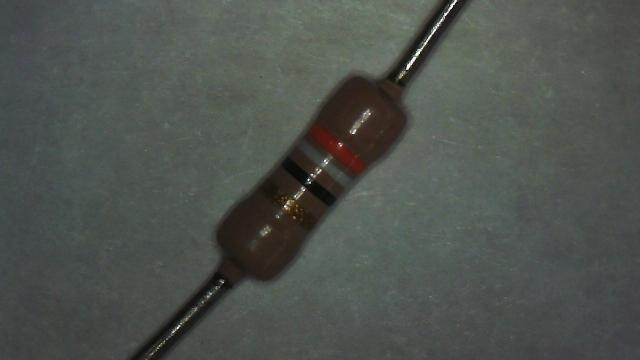black: (280, 157, 336, 205)
gold: (264, 182, 314, 227)
orange: (308, 121, 366, 174)
resistor: (186, 49, 435, 301)
white: (296, 139, 354, 188)
